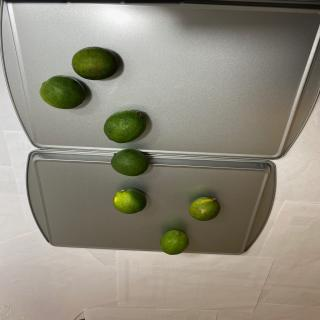Lemon: (71, 46, 119, 80), (39, 75, 86, 109), (103, 110, 147, 144), (110, 148, 149, 176), (112, 188, 147, 214), (188, 196, 221, 222), (160, 230, 189, 255)
